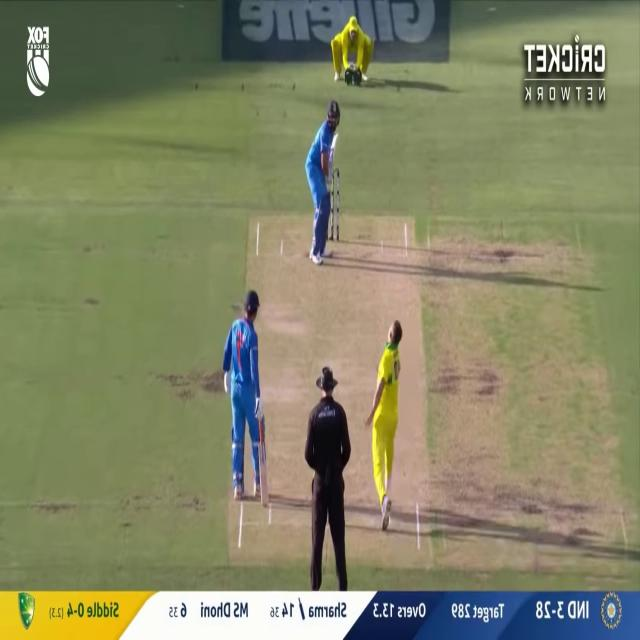stump: (325, 167, 339, 237)
